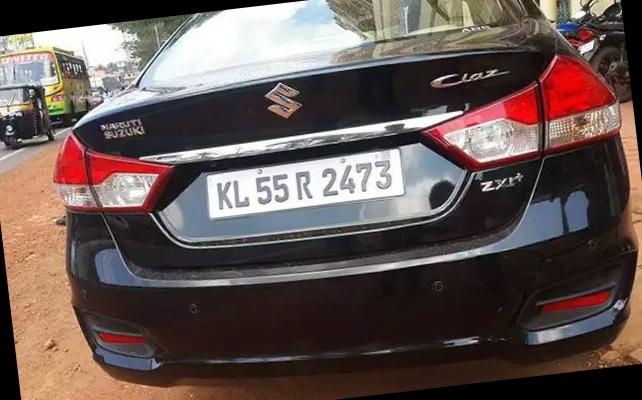plate: (193, 126, 423, 232)
